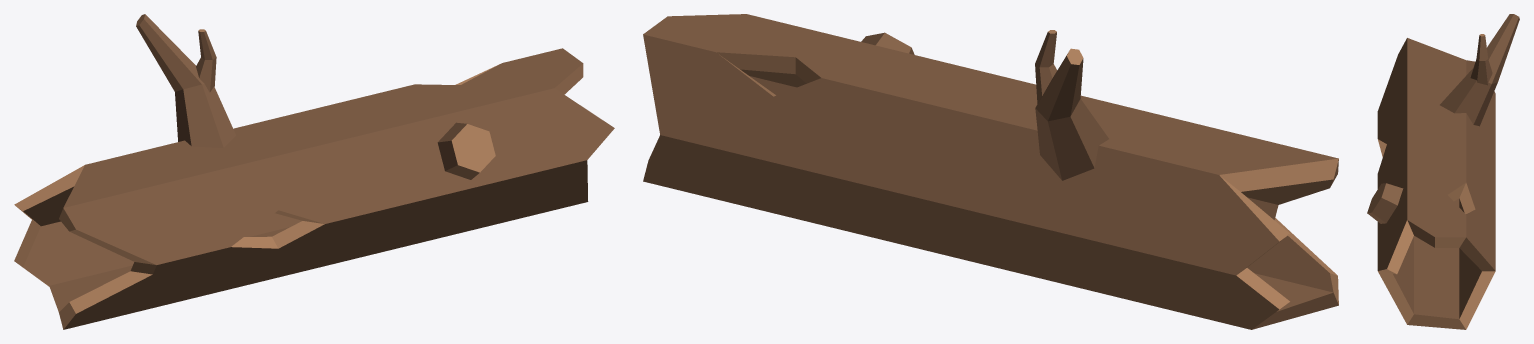
The model's file is TreeTrunk.fbx.
The picture shows the model from 3 angles, left to right: view 1: azimuth 30°, elevation 25°; view 2: azimuth 150°, elevation 25°; view 3: azimuth 270°, elevation 25°; orthographic projection. The views are drawn at different scales.
Parts seen in each view (by area): view 1: TreeTrunk; view 2: TreeTrunk; view 3: TreeTrunk.
Part boxes in pixels (x1,y1,x2,y2): TreeTrunk: (14, 14, 614, 329); TreeTrunk: (643, 14, 1338, 329); TreeTrunk: (1367, 14, 1519, 329).
Bounding box in the file's own units: 4 × 1.61 × 1.29.
